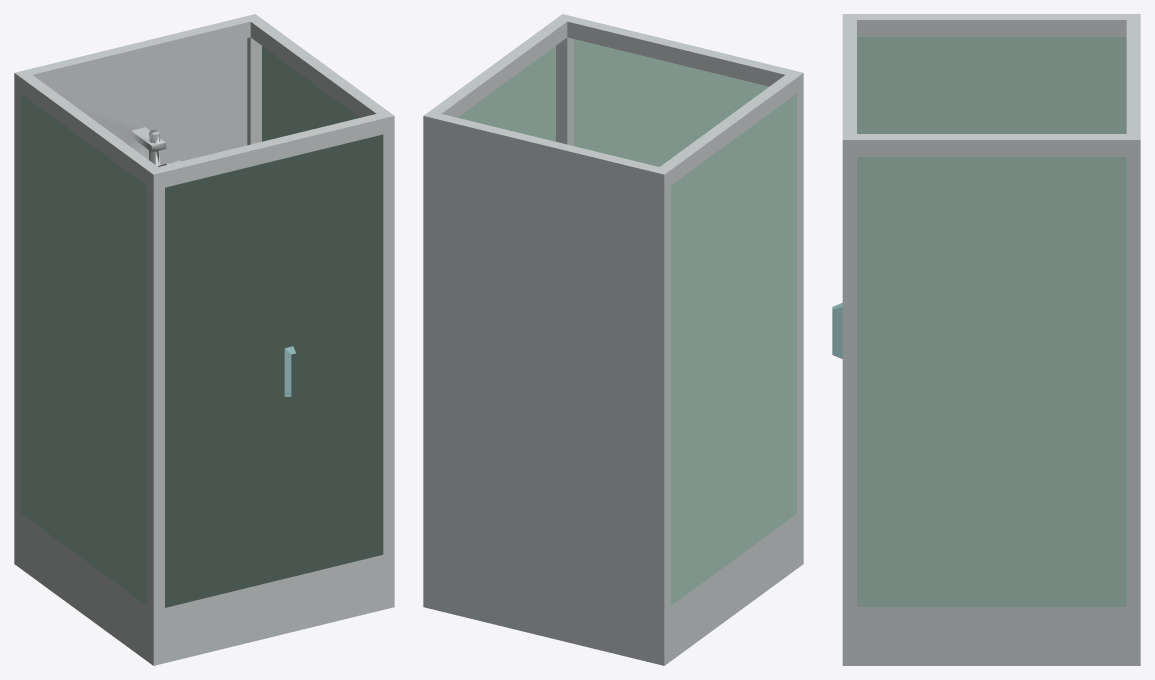
The model's file is shower.glb.
3 views of the same model, side by side, from view 1: azimuth 30°, elevation 25°; view 2: azimuth 150°, elevation 25°; view 3: azimuth 270°, elevation 25° (orthographic). The views are drawn at different scales.
Visible parts, largest first — view 1: shower; view 2: shower; view 3: shower.
Boxes of the visible parts, x1=… form: shower: x1=14, y1=14, x2=394, y2=665; shower: x1=423, y1=14, x2=803, y2=665; shower: x1=832, y1=14, x2=1140, y2=665.
Bounding box in the file's own units: 1.12 × 2.19 × 1.16.
